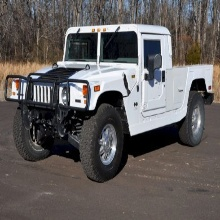no damage: (5, 24, 215, 182)
